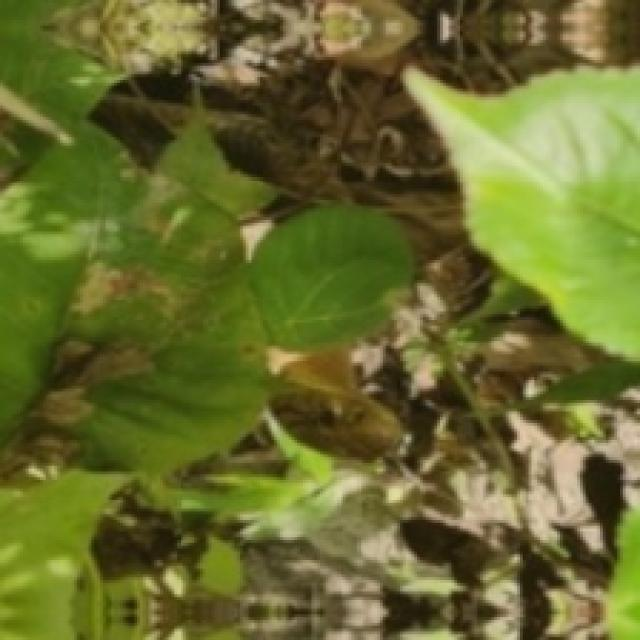king cobra: (211, 110, 340, 255), (261, 349, 405, 461), (90, 92, 189, 168)
